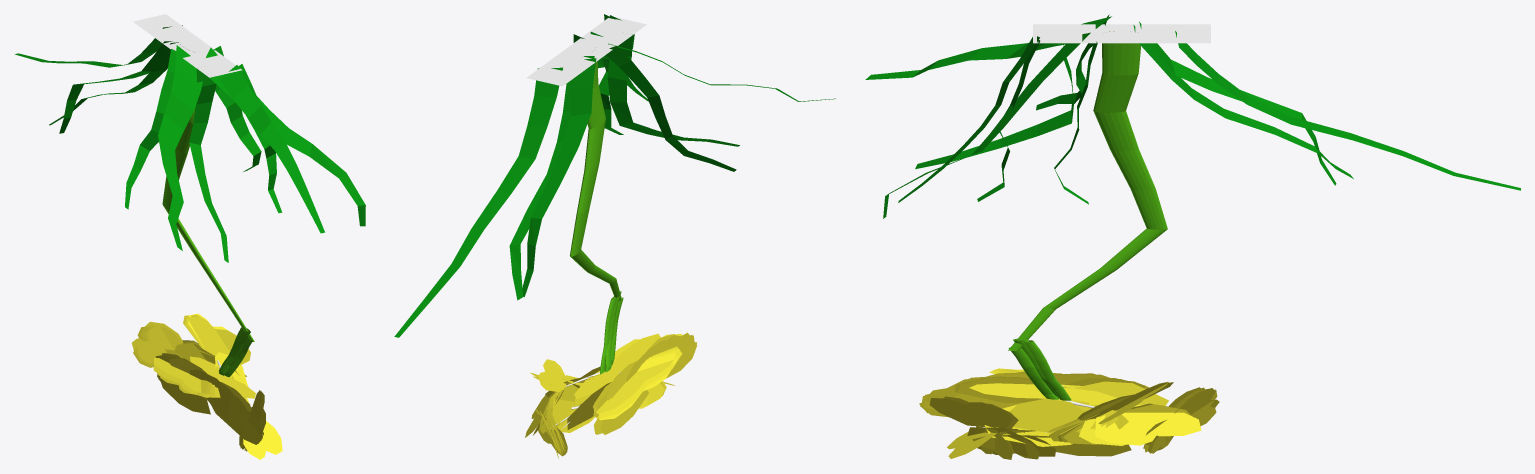
The model's file is flori.obj.
3 renders of one model, left to right at view 1: azimuth 30°, elevation 25°; view 2: azimuth 150°, elevation 25°; view 3: azimuth 270°, elevation 25°, orthographic. The views are drawn at different scales.
Visible parts, largest first — view 1: flori.1; view 2: flori.1; view 3: flori.1.
Part boxes in pixels (<box>): flori.1: <box>15,14,365,459</box>; flori.1: <box>394,14,835,458</box>; flori.1: <box>865,14,1520,459</box>.
Bounding box in the file's own units: 26.33 × 47.79 × 66.25.
